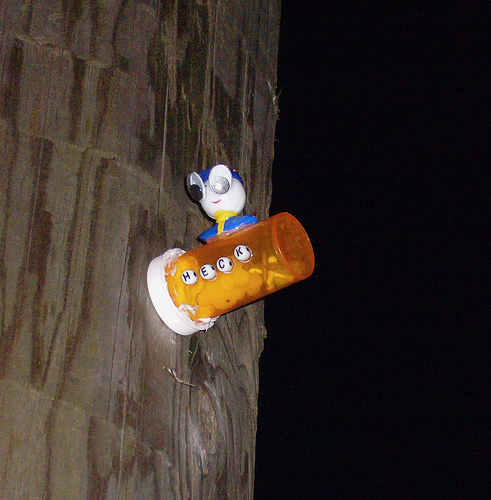pill bottle: (147, 211, 315, 337)
